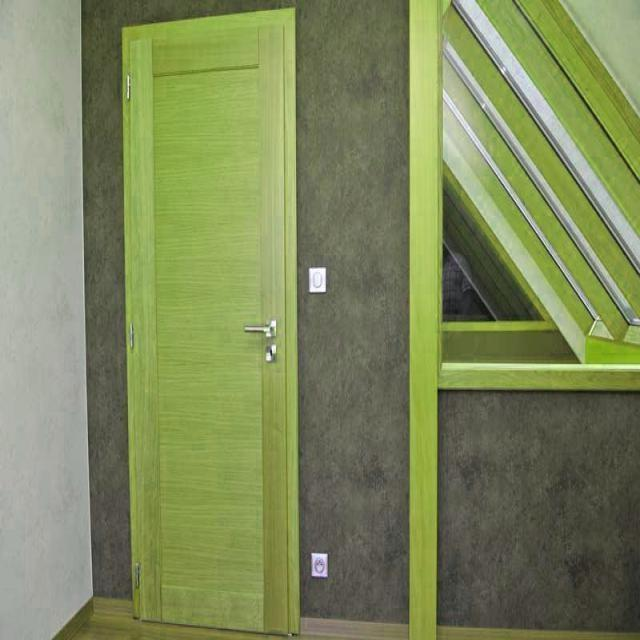door: (120, 6, 299, 636)
